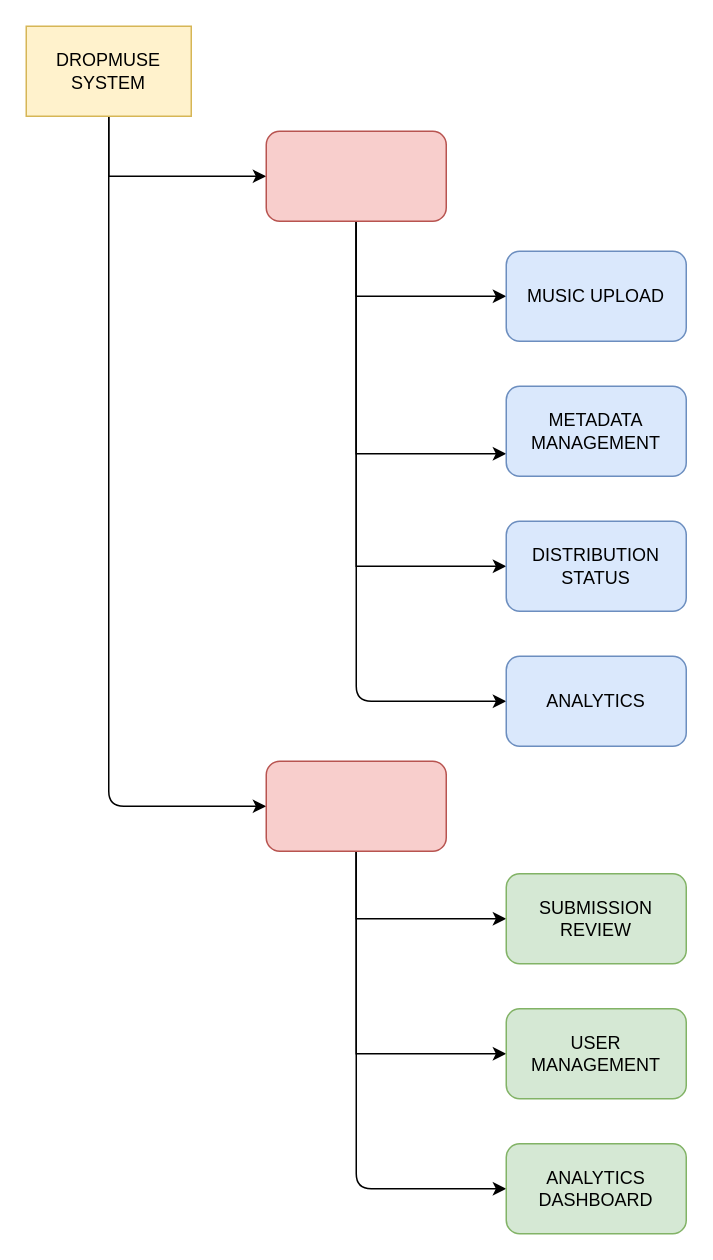
Image size: 713x1260. Some labels were removed from this diagram. The shapes that lost their labels are listed below. From the top down, each one's centre as x and y in pixels, then its label:
At pixel 355 175: "ARTIST PORTAL".
At pixel 355 805: "ADMIN PANEL".
